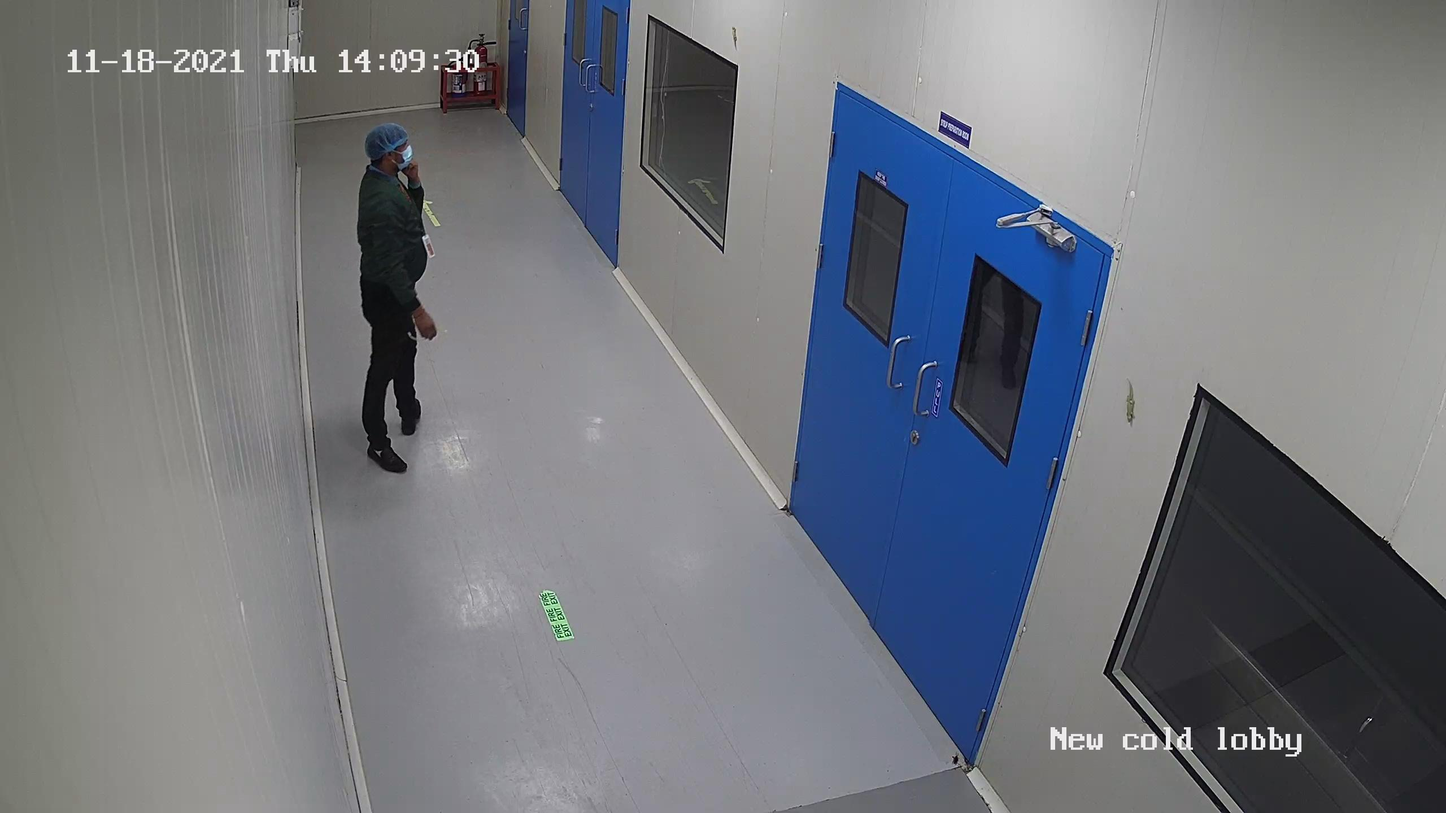cockroach: (945, 746, 964, 767)
lizard: (1111, 372, 1145, 426), (722, 22, 746, 50)
